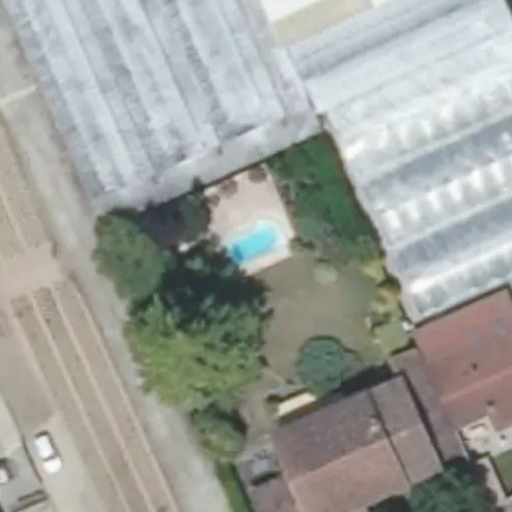pool: (226, 223, 284, 260)
